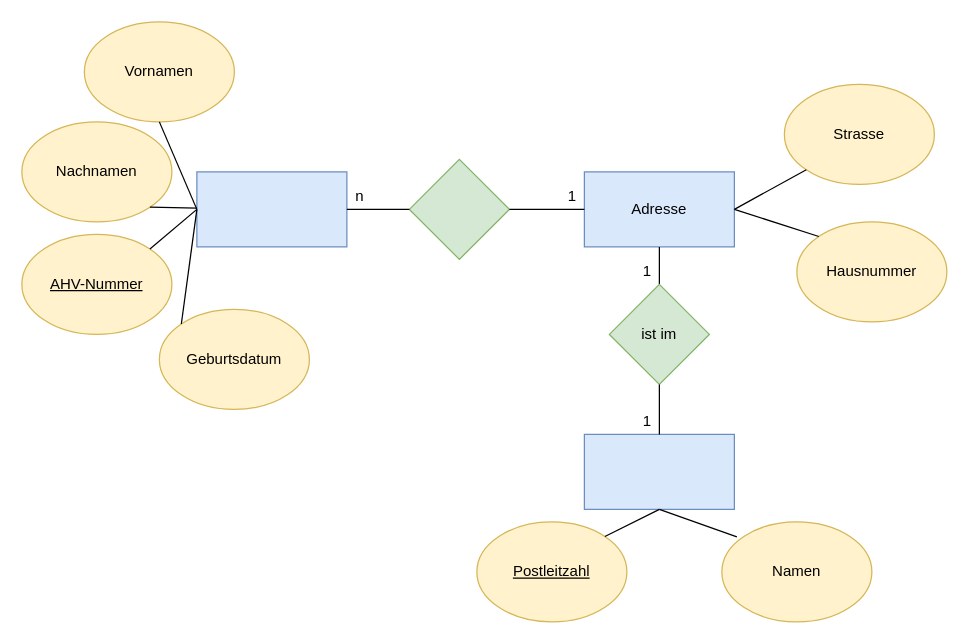
Image size: 969x644. Some labels were removed from this diagram. The shapes that lost their labels are listed below. From the top down, each one's centre as x and y in pixels, then its label:
At (x=271, y=209): "Person".
At (x=458, y=208): "wohnt".
At (x=658, y=471): "Ort".
